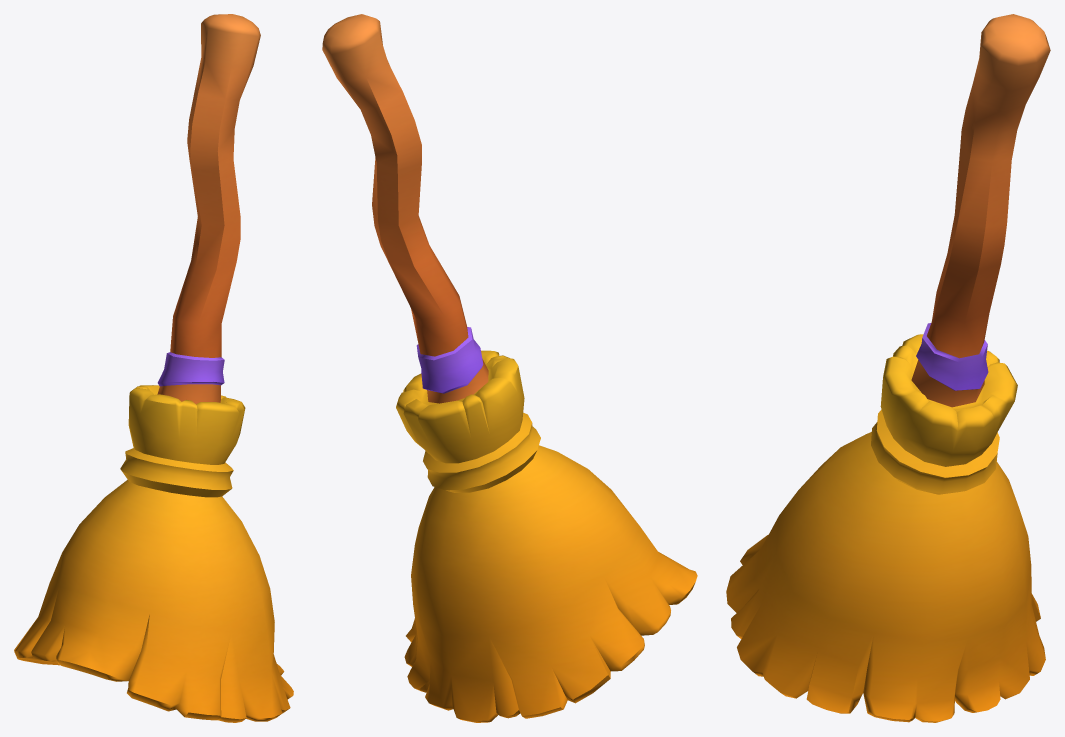
Rendered from WBA_Witch_Broom_Set_03.fbx.
3 renders of one model, left to right at view 1: azimuth 30°, elevation 25°; view 2: azimuth 150°, elevation 25°; view 3: azimuth 270°, elevation 25°, orthographic. The views are drawn at different scales.
Parts seen in each view (by area): view 1: WBA_Witch_Broom_Set_03; view 2: WBA_Witch_Broom_Set_03; view 3: WBA_Witch_Broom_Set_03.
Boxes of the visible parts, <box> form: WBA_Witch_Broom_Set_03: <box>14,14,293,722</box>; WBA_Witch_Broom_Set_03: <box>322,14,697,722</box>; WBA_Witch_Broom_Set_03: <box>726,14,1050,722</box>.
Bounding box in the file's own units: 41.54 × 92.42 × 37.93.
